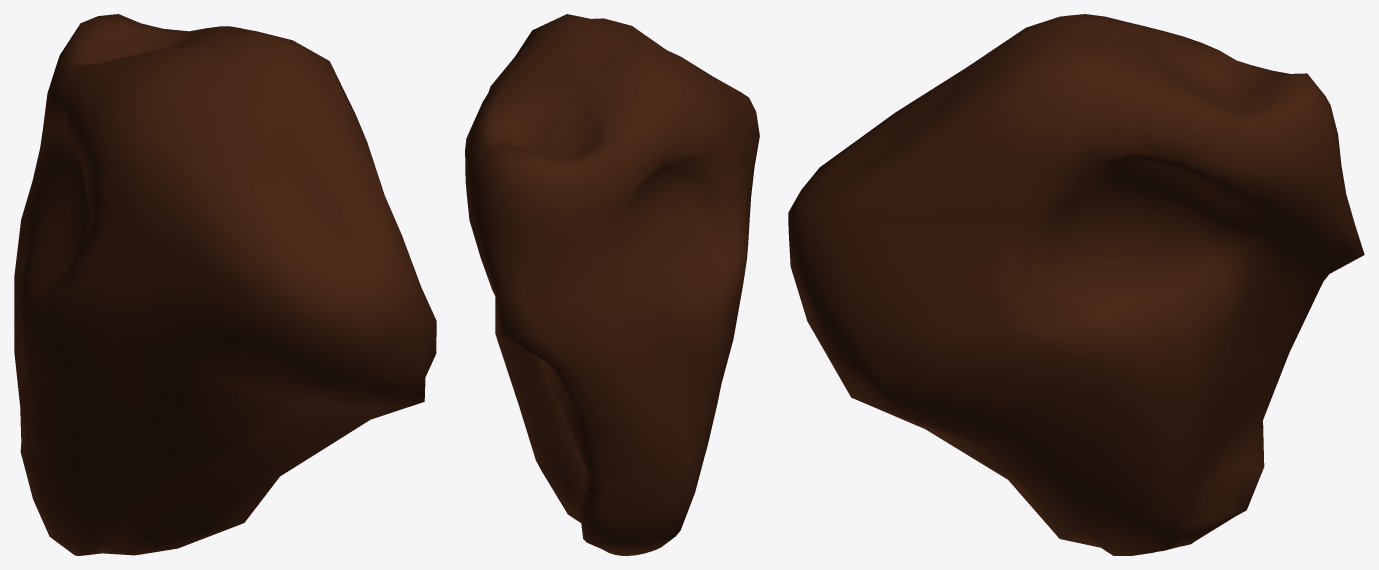
File: Meteroid_03.fbx
3 views of the same model, side by side, from view 1: azimuth 30°, elevation 25°; view 2: azimuth 150°, elevation 25°; view 3: azimuth 270°, elevation 25° (orthographic). The views are drawn at different scales.
Parts seen in each view (by area): view 1: Meteroid_03; view 2: Meteroid_03; view 3: Meteroid_03.
Part boxes in pixels (<box>): Meteroid_03: <box>14,14,436,555</box>; Meteroid_03: <box>465,14,759,555</box>; Meteroid_03: <box>788,14,1364,555</box>.
Bounding box in the file's own units: 162 × 275 × 263.
